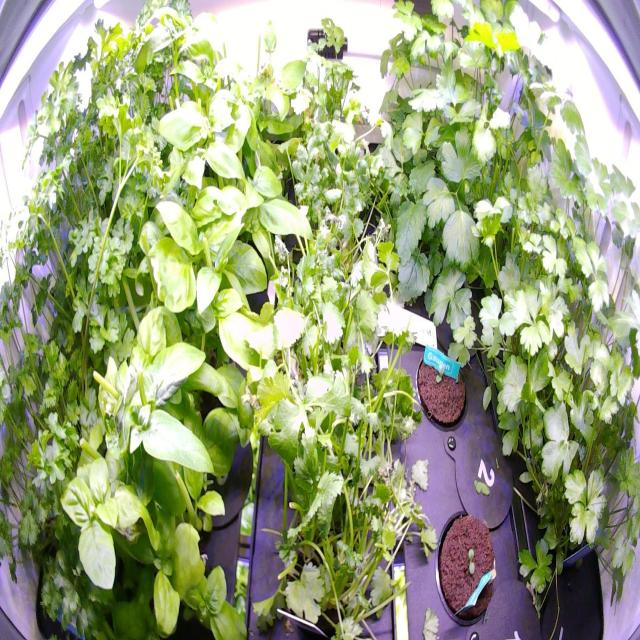germination: (430, 499, 500, 633), (412, 340, 475, 439)
